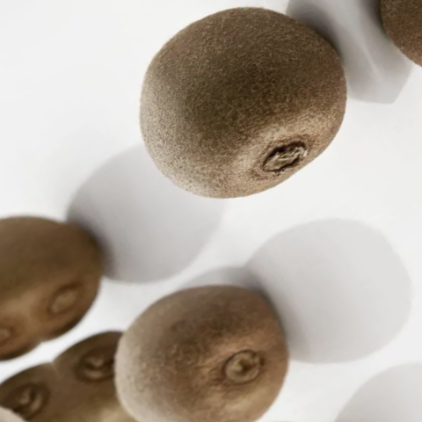kiwi: (83, 0, 397, 253), (75, 228, 331, 422)
